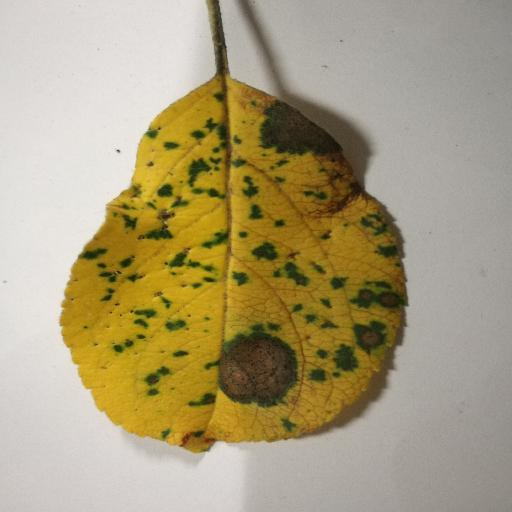Brown_Spot: (225, 339, 292, 403), (260, 108, 327, 151), (321, 159, 367, 216), (359, 291, 402, 307), (351, 327, 378, 345)
